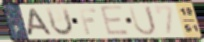7: (153, 4, 178, 37)
A: (26, 7, 54, 36)
E: (98, 5, 132, 37)
F: (76, 7, 97, 36)
U: (127, 5, 158, 37), (44, 6, 75, 37)
